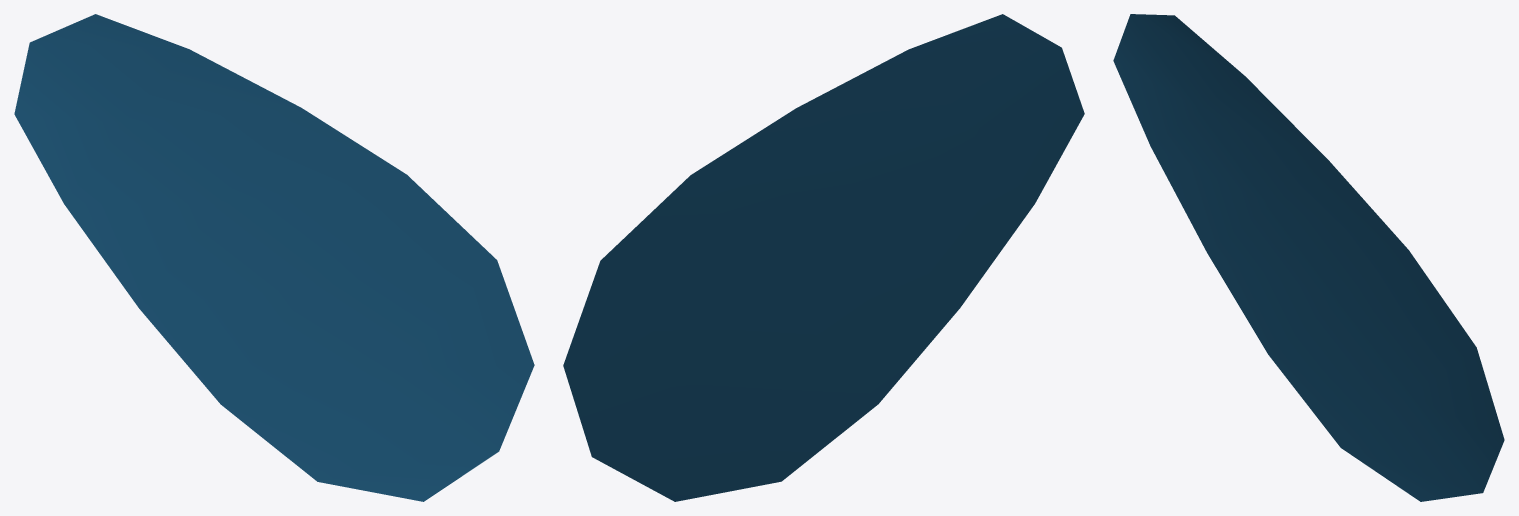
File: budgie_feather_flight_secondary_029.obj
3 views of the same model, side by side, from view 1: azimuth 30°, elevation 25°; view 2: azimuth 150°, elevation 25°; view 3: azimuth 330°, elevation 25° (orthographic). The views are drawn at different scales.
Visible parts, largest first — view 1: feather_flight_secondary_029; view 2: feather_flight_secondary_029; view 3: feather_flight_secondary_029.
Boxes of the visible parts, <box> form: feather_flight_secondary_029: <box>14,14,534,501</box>; feather_flight_secondary_029: <box>563,14,1084,501</box>; feather_flight_secondary_029: <box>1113,14,1504,501</box>.
Bounding box in the file's own units: 0.0269 × 0.028 × 0.000357.
